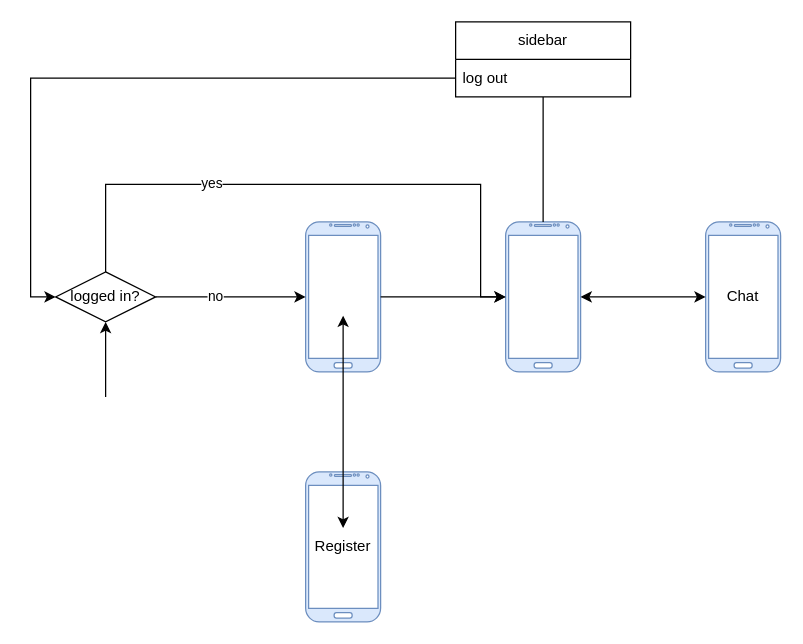
This 803x644 diagram has some shape labels left out. The centre of each missing label's shape, as x and y in pixels:
"Home" belongs at [542,296].
"Login" belongs at [342,296].
